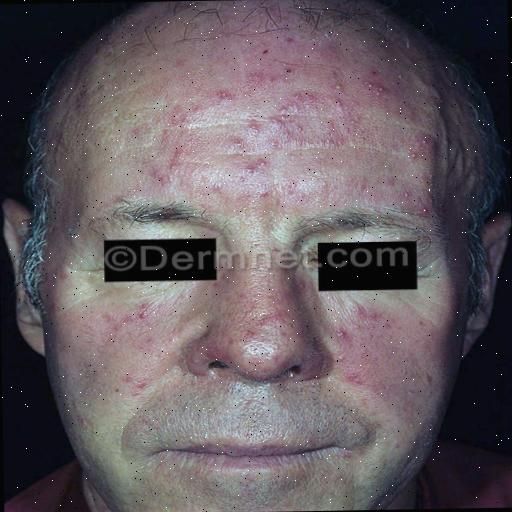Skin_Lesion: (76, 306, 117, 400), (269, 88, 326, 154), (228, 298, 305, 346), (228, 156, 274, 212), (161, 152, 198, 208), (246, 45, 288, 87), (212, 124, 260, 159), (176, 86, 200, 140), (408, 126, 442, 163), (362, 65, 396, 99), (334, 366, 375, 394), (352, 302, 388, 332), (398, 378, 418, 422), (122, 304, 151, 328), (124, 370, 150, 396), (211, 86, 236, 110), (336, 322, 352, 351), (323, 37, 342, 61), (399, 182, 413, 209), (129, 124, 145, 142), (60, 266, 72, 285)
